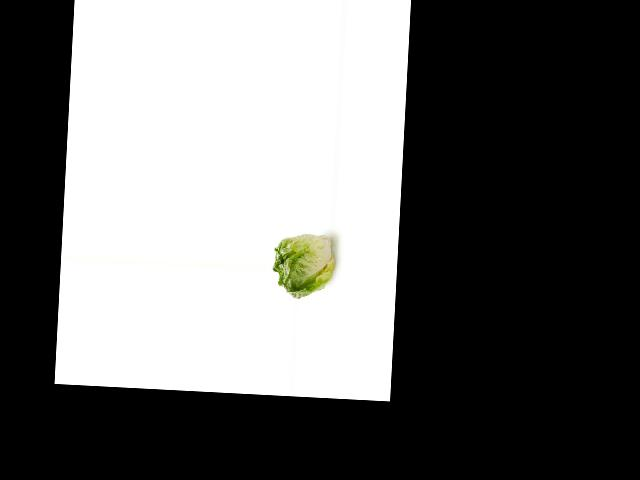lettuce: (269, 227, 335, 303)
